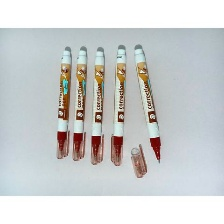correction_fluid: (132, 47, 162, 166), (109, 46, 128, 166), (88, 48, 105, 166), (71, 49, 88, 162), (54, 48, 71, 160)
